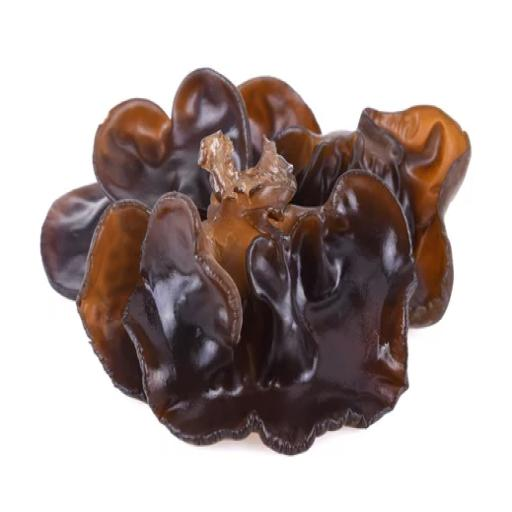Wood Ear Mushroom: (36, 59, 473, 466)
